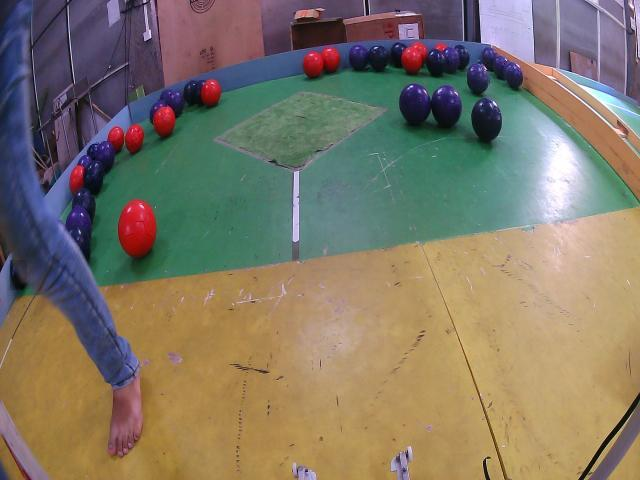jambhalya: (399, 83, 431, 127), (432, 85, 462, 128), (65, 207, 92, 238), (467, 64, 489, 95), (96, 141, 115, 171), (505, 61, 522, 89), (166, 91, 185, 116), (350, 45, 368, 70), (443, 47, 460, 73), (150, 100, 167, 123), (494, 55, 508, 80), (482, 46, 496, 70), (78, 155, 92, 168), (160, 90, 172, 101)
kaalyya: (472, 98, 502, 142), (66, 224, 90, 260), (73, 186, 96, 221), (84, 160, 104, 195), (426, 48, 446, 77), (369, 46, 389, 71), (11, 260, 27, 290), (390, 42, 406, 68), (455, 45, 470, 71), (191, 80, 205, 105), (183, 80, 196, 105), (87, 144, 98, 160)
